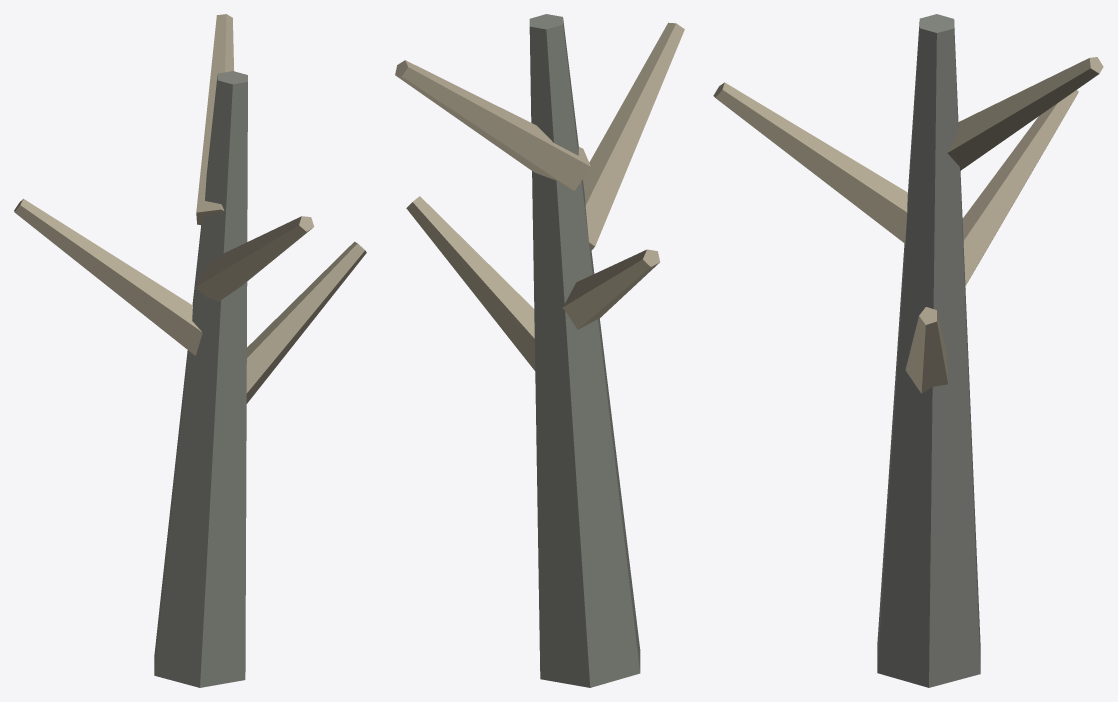
Rendered from SM_RUI_NAT_002_FossilTree.glb.
3 renders of one model, left to right at view 1: azimuth 30°, elevation 25°; view 2: azimuth 150°, elevation 25°; view 3: azimuth 270°, elevation 25°, orthographic. The views are drawn at different scales.
Visible parts, largest first — view 1: SM_RUI_NAT_002_FossilTree; view 2: SM_RUI_NAT_002_FossilTree; view 3: SM_RUI_NAT_002_FossilTree.
Part boxes in pixels (x1,y1,x2,y2): SM_RUI_NAT_002_FossilTree: (14, 14, 366, 687); SM_RUI_NAT_002_FossilTree: (395, 14, 684, 687); SM_RUI_NAT_002_FossilTree: (713, 14, 1103, 687).
Size of the model in its own units: 0.9554 by 1.83 by 0.9816.
